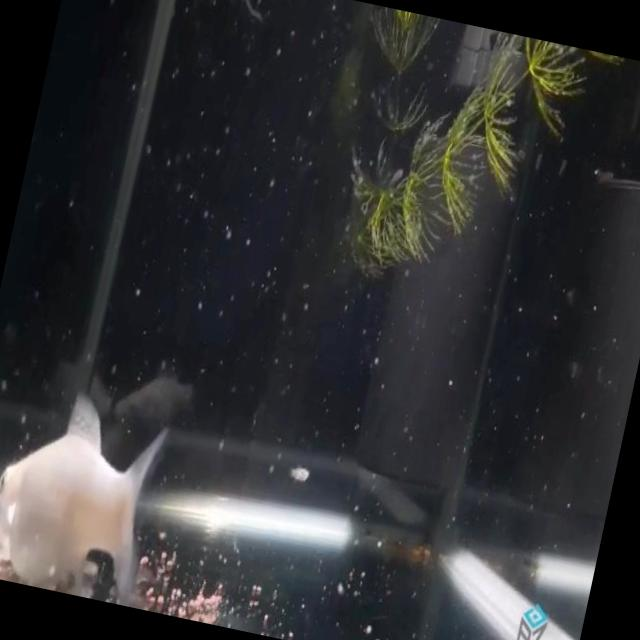PlatyFish: (0, 355, 198, 611)
